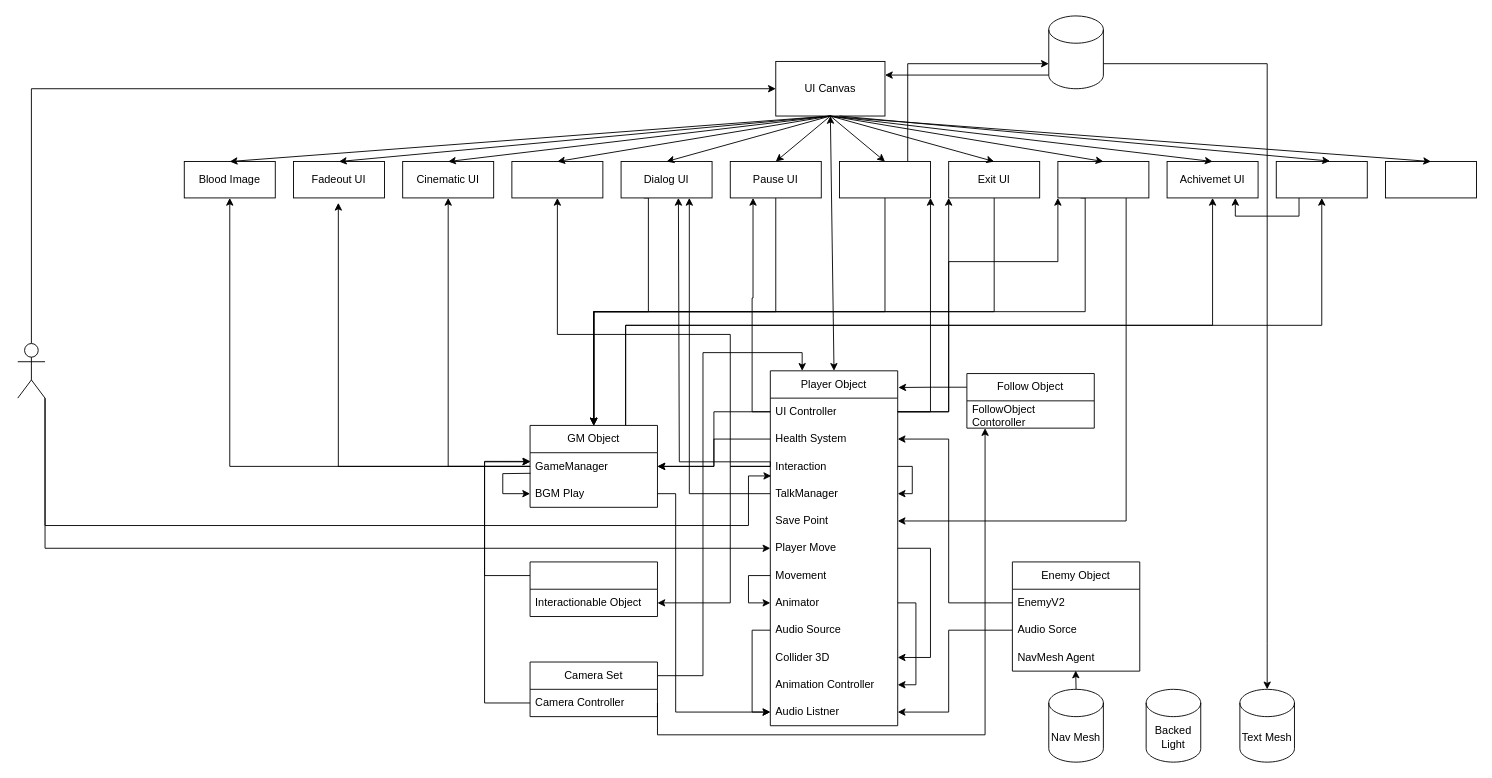
Some shapes in this 1492 by 778 pixel diagram are drawn without their labels. Each missing label, with the box of its shape:
Action Object: (529, 561, 657, 617)
Debug UI: (1385, 161, 1476, 198)
Fail UI: (1057, 161, 1149, 198)
Interaction UI: (511, 161, 603, 198)
Localization Tables: (1048, 15, 1103, 89)
Player: (17, 343, 45, 398)
RT - Achivemet UI: (1275, 161, 1367, 198)
Setting UI: (839, 161, 930, 198)
